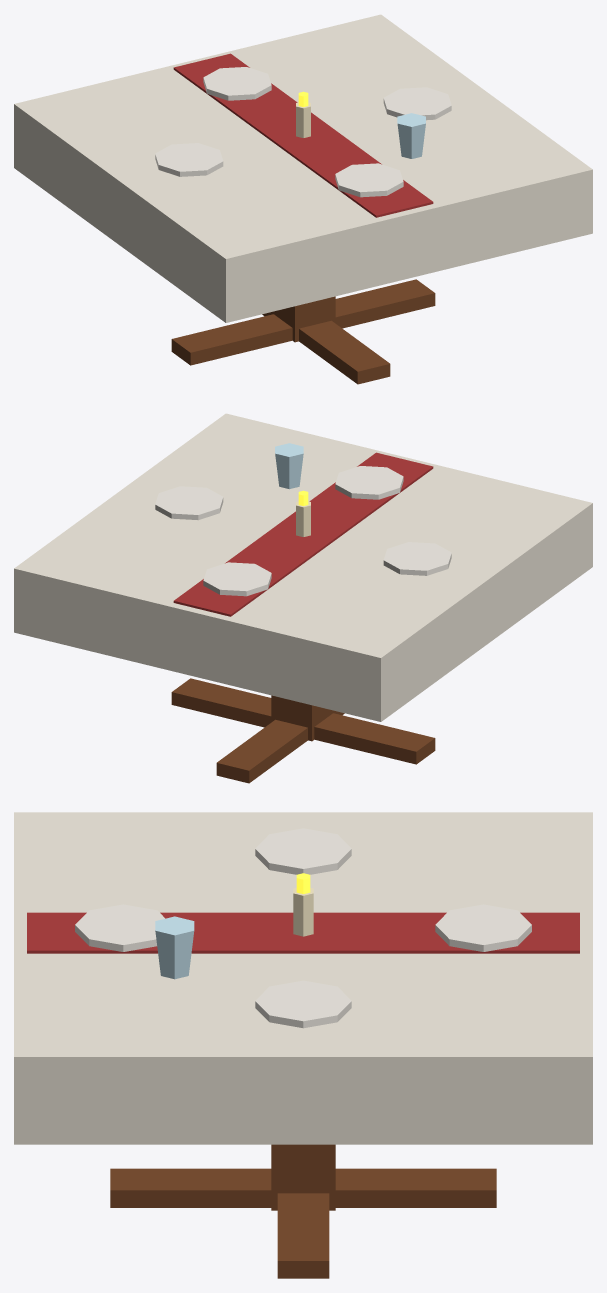
File: table.glb
3 renders of one model, top to bottom at view 1: azimuth 30°, elevation 25°; view 2: azimuth 150°, elevation 25°; view 3: azimuth 270°, elevation 25°, orthographic. The views are drawn at different scales.
Parts seen in each view (by area): view 1: table; view 2: table; view 3: table.
Part boxes in pixels (bbox=[...]): table: bbox=[14, 14, 592, 384]; table: bbox=[14, 413, 592, 783]; table: bbox=[14, 812, 592, 1278].
Size of the model in its own units: 0.9 by 0.55 by 0.9.
1 material, 1 textured.
